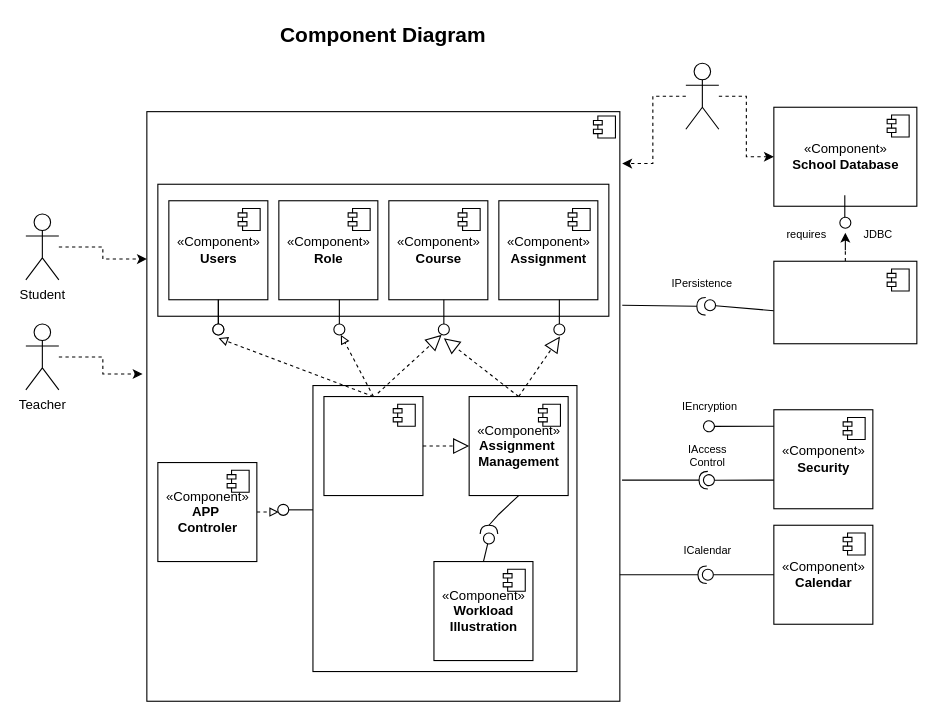
The diagram is 936 pixels wide and 721 high, and some of its shapes have lost their labels. The box of each missing label's shape, as (x1, y1, x2, y2) in pixels:
<<Component>> Web-based planning tool: (146, 111, 620, 701)
Admin: (685, 62, 719, 129)
«Component» Infrastructure: (773, 260, 917, 344)
«Component» User Administration: (323, 395, 423, 496)
